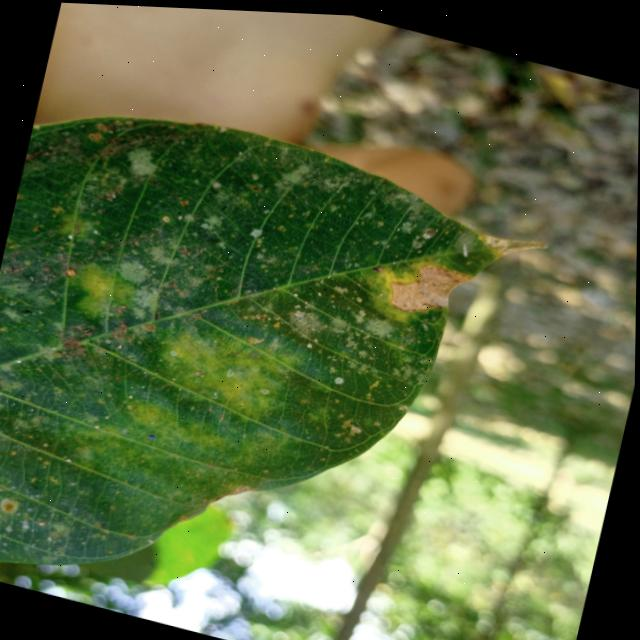Colletotrichum: (251, 182, 262, 190)
Leaf-Blight: (387, 253, 469, 320), (477, 221, 547, 263)
